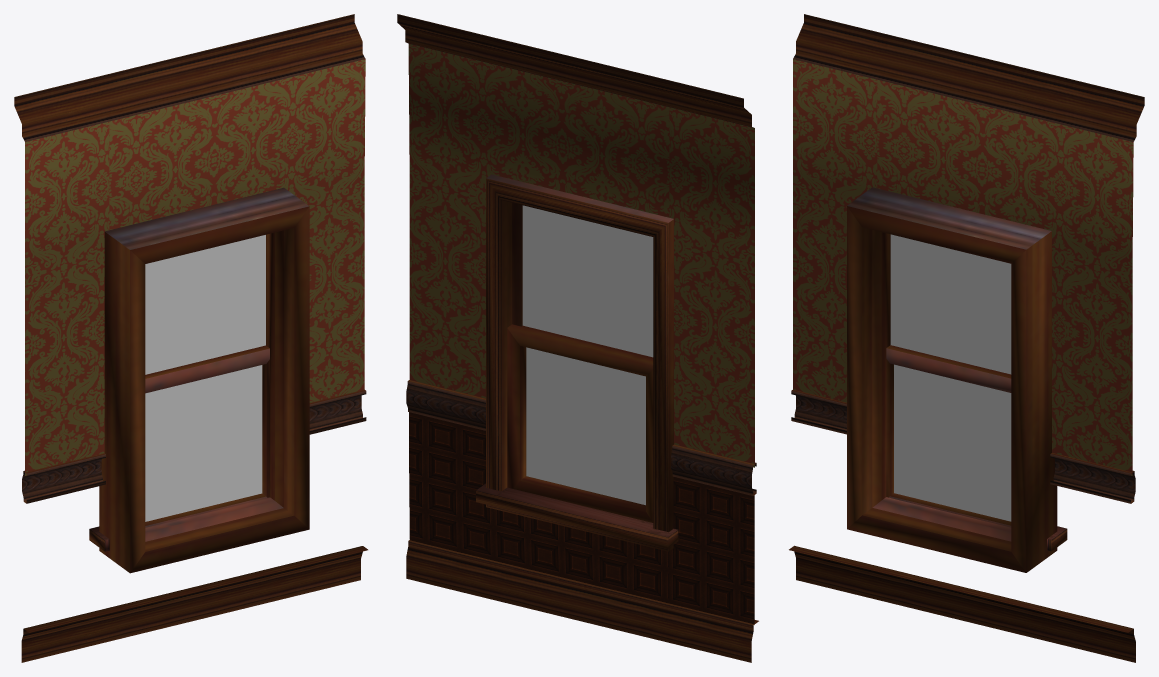
Rendered from Window1REG.fbx.
3 views of the same model, side by side, from view 1: azimuth 30°, elevation 25°; view 2: azimuth 150°, elevation 25°; view 3: azimuth 330°, elevation 25° (orthographic).
Visible parts, largest first — view 1: Wall1WindowREG; view 2: Wall1WindowREG; view 3: Wall1WindowREG.
Boxes of the visible parts, x1,y1,x2,y2 form: Wall1WindowREG: (14,14,367,662); Wall1WindowREG: (397,14,758,662); Wall1WindowREG: (789,14,1144,662).
Bounding box in the file's own units: 179 × 281 × 33.18.
